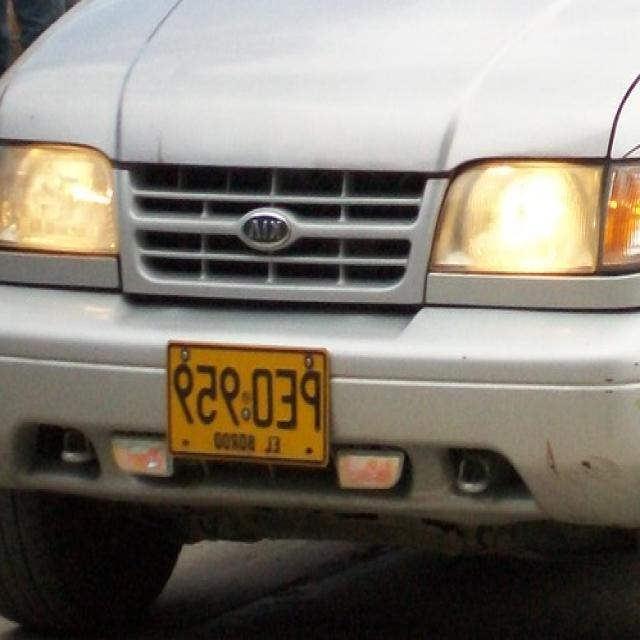placas: (168, 356, 326, 432)
